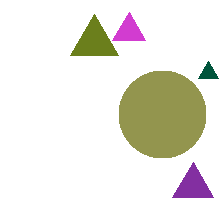circle: (119, 71, 205, 157)
triangle: (70, 14, 118, 55), (172, 162, 213, 197), (112, 12, 145, 40), (198, 61, 218, 78)
